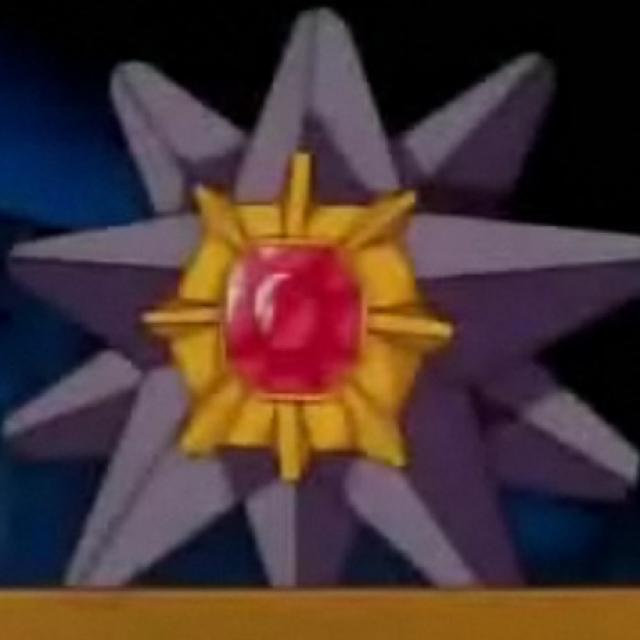Starmie: (104, 48, 551, 531)
